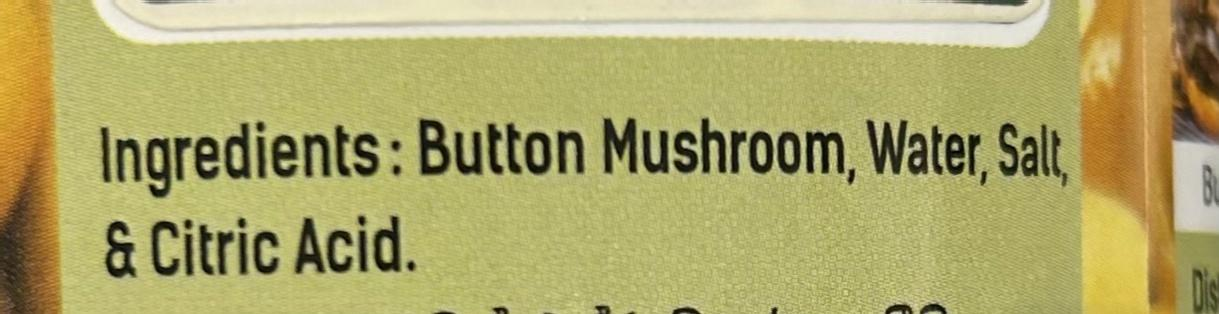ingredients: (75, 83, 1125, 292)
